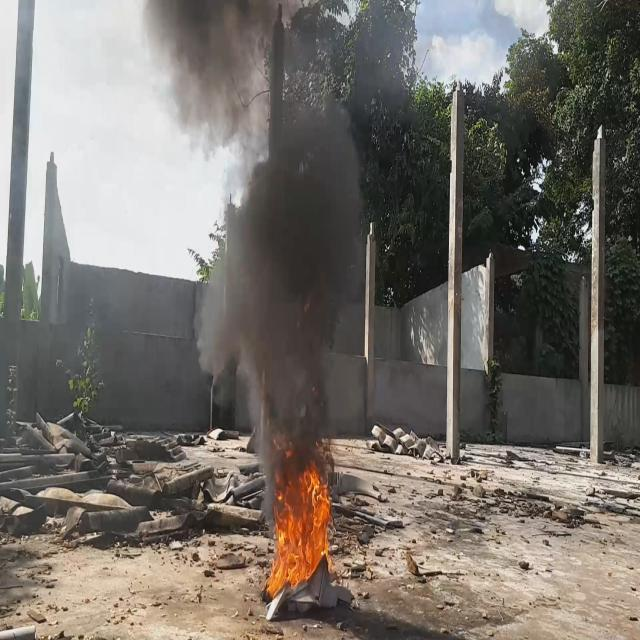Fire: (271, 444, 338, 602)
Smoke: (125, 0, 365, 464)
